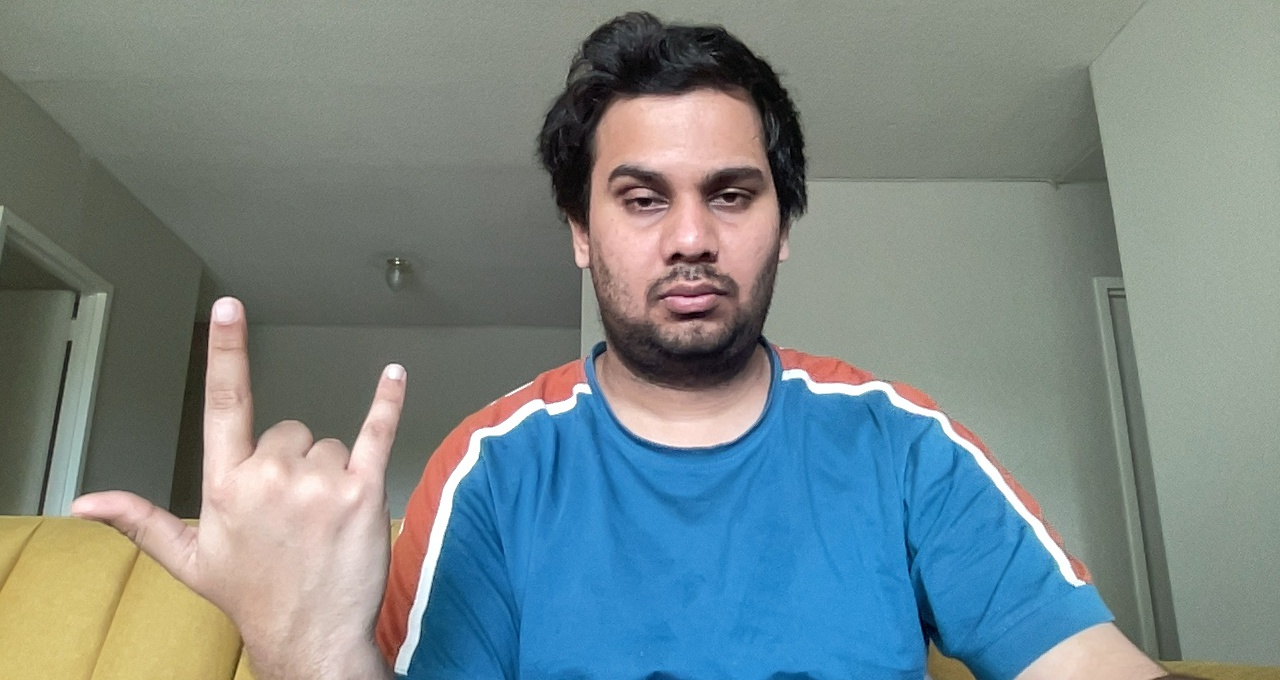rockon sign: (67, 278, 412, 656)
